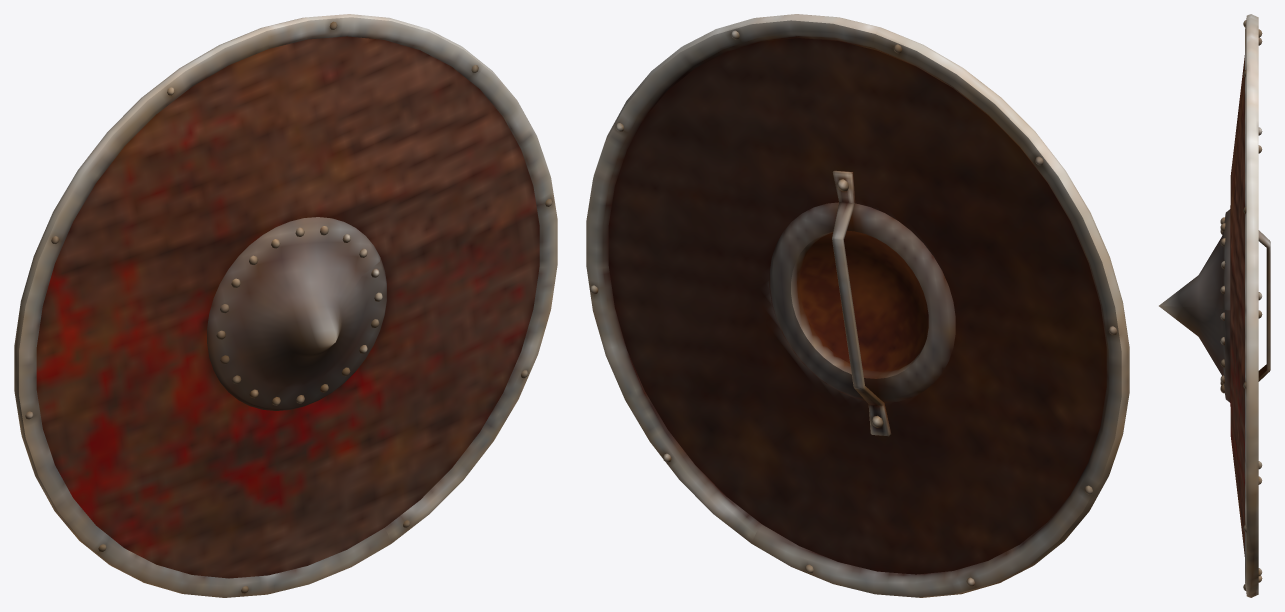
Rendered from shield10.fbx.
The picture shows the model from 3 angles, left to right: view 1: azimuth 30°, elevation 25°; view 2: azimuth 150°, elevation 25°; view 3: azimuth 270°, elevation 25°; orthographic projection. The views are drawn at different scales.
Visible parts, largest first — view 1: shield10_LOD0; view 2: shield10_LOD0; view 3: shield10_LOD0.
Boxes of the visible parts, bbox=[...] form: shield10_LOD0: bbox=[14, 14, 557, 597]; shield10_LOD0: bbox=[586, 14, 1129, 597]; shield10_LOD0: bbox=[1159, 14, 1270, 597].
Size of what is drawn, in the model's own units: 91.94 by 91.94 by 17.67.
